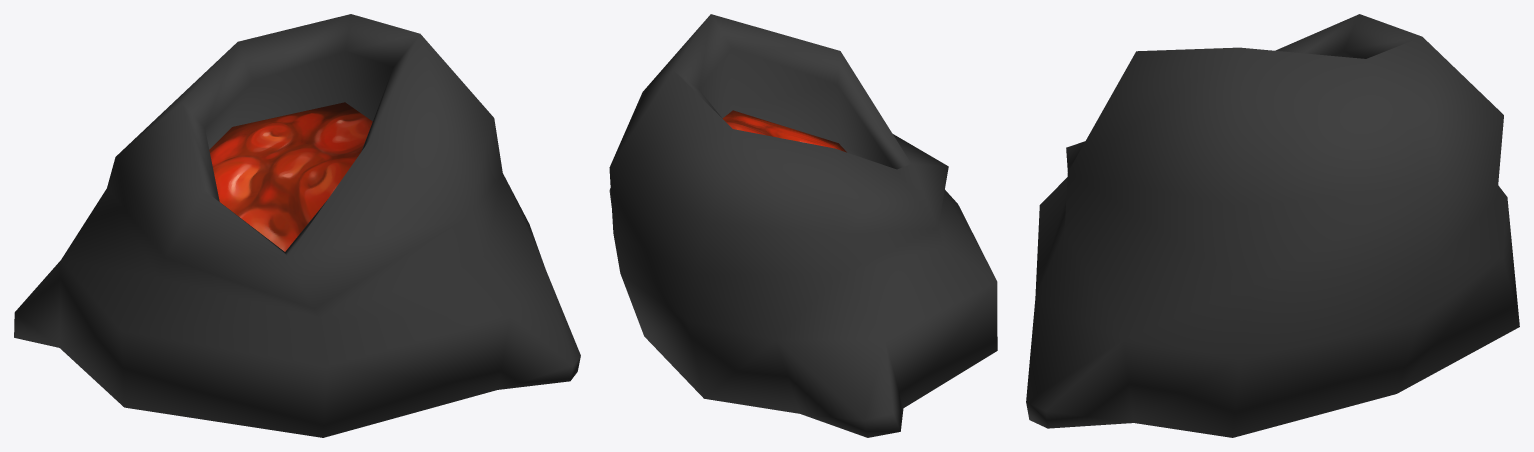
File: SM_PROP_sack_04.FBX
The picture shows the model from 3 angles, left to right: view 1: azimuth 30°, elevation 25°; view 2: azimuth 150°, elevation 25°; view 3: azimuth 270°, elevation 25°; orthographic projection. The views are drawn at different scales.
Visible parts, largest first — view 1: SM_PROP_sack_04; view 2: SM_PROP_sack_04; view 3: SM_PROP_sack_04.
Boxes of the visible parts, <box> form: SM_PROP_sack_04: <box>14,14,580,437</box>; SM_PROP_sack_04: <box>609,14,997,437</box>; SM_PROP_sack_04: <box>1026,14,1519,437</box>.
Size of the model in its own units: 70.05 by 62.72 by 49.3.
